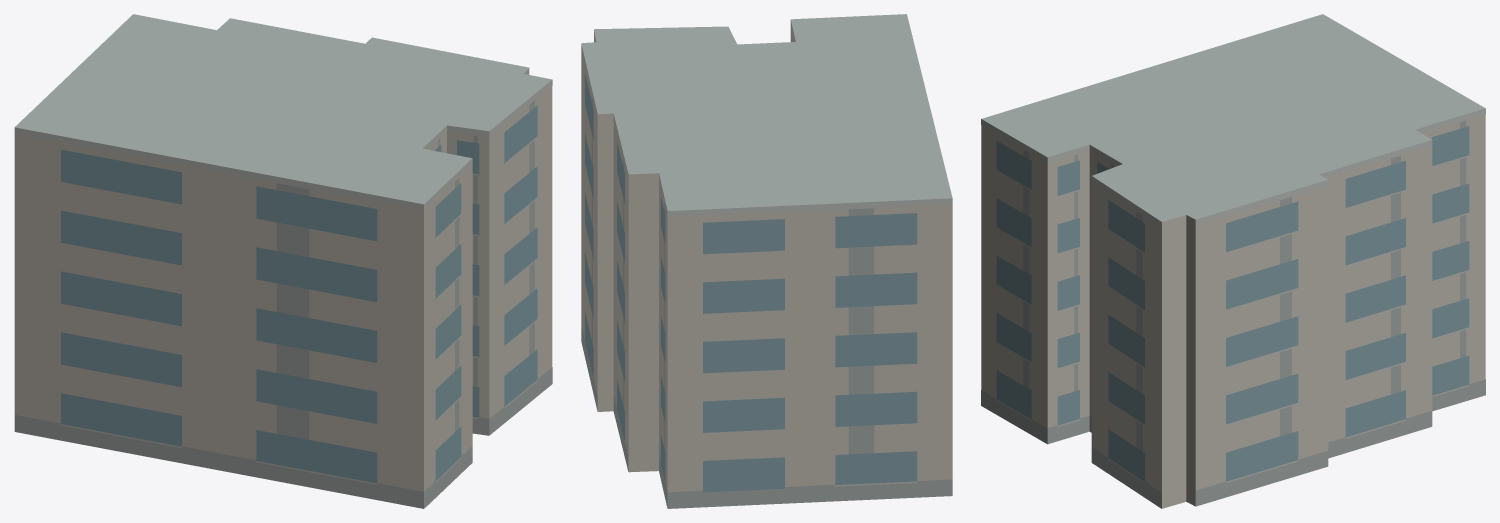
The model's file is survey-upis-32528360.glb.
3 renders of one model, left to right at view 1: azimuth 30°, elevation 25°; view 2: azimuth 150°, elevation 25°; view 3: azimuth 270°, elevation 25°, orthographic. The views are drawn at different scales.
Parts seen in each view (by area): view 1: survey-upis-32528360.tmp; view 2: survey-upis-32528360.tmp; view 3: survey-upis-32528360.tmp.
Part boxes in pixels (left/top/right/bottom): survey-upis-32528360.tmp: left=14, top=14, right=552, bottom=508; survey-upis-32528360.tmp: left=581, top=14, right=952, bottom=508; survey-upis-32528360.tmp: left=981, top=14, right=1485, bottom=508.
Bounding box in the file's own units: 17.57 × 11.3 × 18.02.
